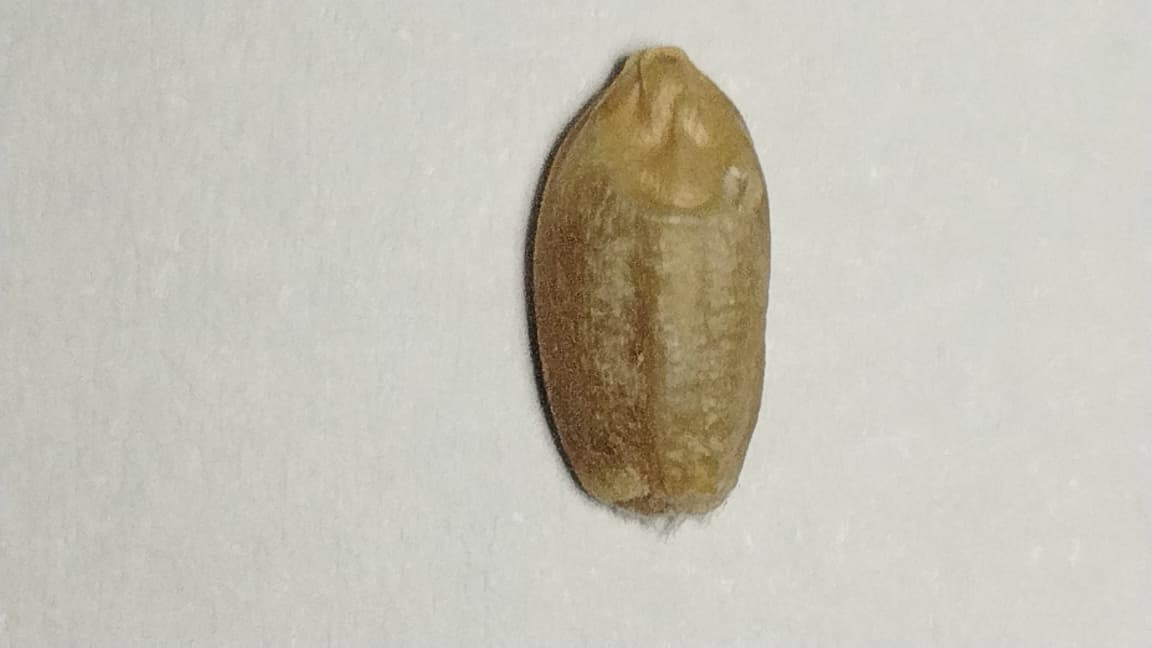healthy: (528, 48, 769, 519)
